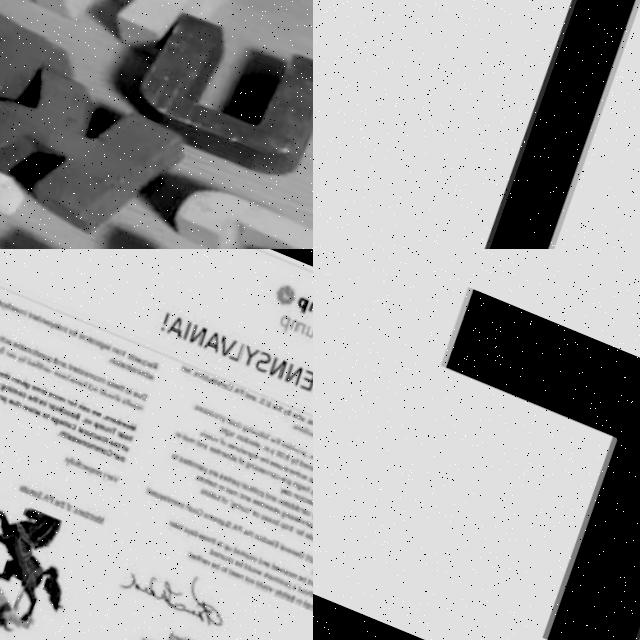0: (273, 450, 283, 460), (297, 552, 307, 562), (271, 448, 277, 458), (306, 557, 311, 564)
2: (301, 554, 310, 564), (308, 557, 313, 566)
8: (279, 452, 288, 462)
A: (198, 329, 224, 355), (162, 312, 186, 339), (228, 386, 238, 396), (44, 402, 54, 412), (62, 432, 71, 442), (36, 492, 45, 502), (246, 394, 255, 402), (2, 338, 11, 346), (197, 444, 206, 452), (80, 406, 89, 414), (276, 488, 285, 496), (225, 478, 234, 486), (207, 471, 216, 479), (202, 479, 211, 487), (239, 495, 248, 503), (224, 523, 233, 531), (258, 560, 267, 568), (144, 373, 152, 381), (223, 418, 231, 426), (18, 344, 26, 352), (73, 378, 81, 386), (266, 495, 274, 503), (114, 432, 122, 440), (296, 508, 304, 516), (269, 508, 277, 516), (206, 492, 214, 500), (305, 534, 313, 542), (57, 360, 64, 369), (167, 635, 177, 640), (307, 453, 313, 461), (266, 472, 272, 479), (281, 502, 287, 509), (222, 488, 228, 495), (307, 570, 313, 577), (184, 529, 190, 536), (19, 486, 25, 493), (271, 462, 276, 470), (291, 516, 296, 524), (227, 456, 233, 462), (301, 522, 307, 528), (284, 584, 290, 590), (261, 574, 267, 580), (88, 337, 93, 344), (118, 362, 123, 369), (298, 474, 303, 481), (308, 490, 313, 497), (238, 483, 243, 490), (33, 409, 38, 416), (76, 427, 81, 434), (274, 545, 279, 552), (170, 523, 175, 530), (237, 448, 242, 454), (180, 436, 185, 442), (256, 468, 261, 474), (299, 602, 304, 608), (280, 594, 285, 600)
B: (230, 558, 240, 570), (13, 342, 23, 352), (297, 484, 307, 494), (69, 412, 79, 422), (205, 478, 215, 488), (208, 492, 218, 502), (281, 592, 291, 602), (59, 372, 68, 382), (109, 416, 118, 426), (267, 517, 276, 527), (207, 561, 216, 571), (77, 508, 86, 518), (289, 456, 295, 465), (224, 453, 230, 462), (266, 504, 272, 513), (295, 574, 301, 583), (282, 409, 288, 416), (18, 356, 24, 362), (309, 512, 313, 521)
C: (99, 158, 313, 249), (99, 446, 109, 458), (190, 506, 200, 516), (223, 382, 232, 392), (66, 422, 75, 432), (257, 536, 266, 544), (73, 462, 82, 470), (220, 556, 229, 564), (43, 366, 51, 374), (304, 522, 312, 530), (245, 555, 253, 563), (16, 392, 25, 399), (232, 422, 240, 429), (0, 337, 7, 345), (57, 408, 63, 416), (302, 429, 308, 436), (298, 496, 304, 503), (301, 510, 307, 517), (241, 484, 246, 492), (280, 570, 286, 576), (92, 375, 97, 382), (275, 464, 280, 471), (269, 473, 274, 480), (88, 432, 93, 439), (240, 507, 245, 514), (242, 438, 247, 444), (309, 467, 313, 474)
D: (21, 354, 31, 366), (282, 522, 292, 534), (297, 576, 307, 588), (220, 564, 230, 576), (179, 548, 189, 560), (140, 484, 149, 496), (238, 390, 248, 400), (140, 370, 150, 380), (94, 386, 104, 396), (190, 439, 200, 449), (280, 488, 290, 498), (170, 453, 180, 463), (283, 502, 293, 512), (185, 528, 195, 538), (159, 630, 169, 640), (33, 314, 42, 324), (11, 400, 20, 410), (201, 546, 210, 556), (235, 560, 244, 570), (248, 578, 256, 588), (136, 393, 145, 401), (250, 558, 259, 566), (50, 356, 57, 366), (283, 443, 291, 451), (233, 491, 241, 499), (293, 458, 300, 467), (259, 492, 266, 501), (289, 504, 296, 513), (226, 546, 233, 554), (302, 532, 308, 541), (264, 561, 270, 570), (54, 324, 60, 331), (311, 594, 313, 602)
E: (293, 368, 313, 393), (265, 539, 275, 549), (266, 403, 275, 411), (99, 342, 108, 350), (41, 320, 50, 328), (29, 314, 38, 322), (131, 356, 140, 364), (264, 436, 273, 444), (225, 420, 234, 428), (68, 366, 77, 374), (130, 402, 139, 410), (65, 376, 74, 384), (252, 454, 261, 462), (224, 442, 233, 450), (283, 468, 292, 476), (264, 460, 273, 468), (274, 475, 283, 483), (85, 408, 94, 416), (10, 377, 19, 385), (304, 500, 313, 508), (117, 434, 126, 442), (97, 435, 106, 443), (91, 434, 100, 442), (52, 418, 61, 426), (3, 397, 12, 405), (143, 490, 152, 498), (234, 528, 243, 536), (204, 516, 213, 524), (163, 520, 172, 528), (195, 534, 204, 542), (191, 532, 200, 540), (266, 564, 275, 572), (203, 561, 212, 569), (224, 570, 233, 578), (26, 489, 35, 497), (85, 514, 94, 522), (10, 306, 18, 314), (304, 430, 312, 438), (109, 382, 117, 390), (102, 379, 110, 387), (36, 352, 44, 360), (244, 439, 252, 447), (297, 462, 305, 470), (53, 370, 61, 378), (203, 446, 211, 454), (295, 484, 303, 492), (25, 383, 33, 391), (120, 422, 128, 430), (105, 416, 113, 424), (299, 498, 307, 506), (201, 468, 209, 476), (21, 394, 29, 402), (274, 499, 282, 507), (245, 498, 253, 506), (45, 414, 53, 422), (103, 439, 111, 447), (66, 434, 74, 442), (196, 512, 204, 520), (286, 550, 294, 558), (102, 474, 110, 482), (89, 468, 97, 476), (77, 464, 85, 472), (205, 550, 213, 558), (227, 560, 235, 568), (184, 553, 192, 561), (228, 571, 236, 579), (12, 483, 20, 491), (74, 508, 82, 516), (47, 498, 55, 506), (49, 322, 58, 329), (7, 341, 16, 348), (128, 391, 137, 398), (249, 442, 258, 449), (56, 372, 65, 379), (143, 362, 151, 369), (43, 390, 49, 398), (229, 548, 235, 556), (303, 419, 309, 426), (280, 442, 286, 449), (216, 451, 222, 458), (259, 503, 265, 510), (298, 531, 304, 538), (283, 571, 289, 578), (291, 575, 297, 582), (196, 558, 202, 565), (180, 366, 185, 374), (259, 514, 264, 522), (167, 498, 172, 506), (277, 568, 282, 576), (280, 548, 286, 554), (306, 465, 311, 472), (41, 365, 46, 372), (28, 360, 33, 367), (218, 475, 223, 482), (194, 465, 199, 472), (250, 499, 255, 506), (201, 432, 206, 438), (208, 448, 213, 454), (178, 458, 183, 464), (261, 540, 266, 546), (310, 432, 313, 440), (134, 638, 144, 640)
F: (313, 249, 640, 640), (70, 328, 77, 338), (59, 500, 66, 510), (213, 436, 220, 445), (69, 399, 75, 409), (70, 458, 76, 468), (261, 432, 267, 441), (232, 456, 238, 465), (214, 495, 220, 504), (294, 528, 300, 537), (118, 350, 124, 358), (31, 360, 37, 368), (190, 553, 195, 561), (309, 523, 313, 532), (117, 444, 121, 449)
G: (19, 381, 29, 391), (48, 416, 58, 426), (273, 509, 283, 519), (95, 341, 104, 351), (238, 460, 247, 470), (0, 300, 7, 310), (220, 428, 227, 438), (223, 501, 231, 509), (291, 550, 299, 558), (244, 452, 250, 461), (292, 483, 298, 492), (238, 424, 244, 432), (0, 382, 3, 392)
H: (107, 392, 117, 402), (121, 432, 131, 442), (50, 498, 60, 508), (268, 434, 277, 444), (77, 378, 85, 388), (54, 428, 62, 438), (289, 412, 298, 420), (287, 468, 296, 476), (258, 454, 265, 464), (107, 440, 115, 448), (270, 403, 277, 412), (0, 371, 6, 379), (114, 384, 120, 391), (241, 530, 247, 537), (203, 536, 209, 543), (218, 426, 223, 434), (300, 590, 306, 596), (28, 396, 33, 402), (311, 570, 313, 577)
I: (177, 320, 192, 342), (33, 360, 40, 370), (220, 474, 227, 484), (191, 552, 198, 562), (184, 459, 191, 468), (128, 364, 134, 374), (19, 378, 25, 388), (5, 384, 11, 394), (297, 426, 304, 434), (36, 386, 42, 395), (304, 462, 309, 472), (232, 502, 237, 512), (199, 373, 205, 381), (21, 309, 27, 317), (3, 302, 9, 310), (133, 367, 139, 375), (247, 450, 253, 458), (215, 483, 221, 491), (291, 596, 297, 604), (113, 358, 118, 366), (221, 486, 226, 494), (282, 512, 287, 520), (274, 566, 279, 574), (304, 591, 309, 599), (188, 554, 193, 562), (297, 599, 302, 607), (248, 461, 252, 469), (205, 410, 210, 416), (245, 426, 250, 432), (78, 370, 83, 376), (294, 495, 299, 501), (40, 400, 45, 406), (290, 481, 294, 488), (200, 408, 205, 413), (287, 444, 292, 449), (98, 378, 103, 383), (209, 378, 213, 384), (62, 327, 66, 333), (31, 350, 35, 356), (224, 430, 228, 436), (239, 436, 243, 442), (278, 464, 282, 470), (173, 432, 177, 438), (247, 487, 251, 493), (288, 504, 292, 510), (255, 536, 259, 542), (95, 340, 99, 346), (179, 434, 183, 439), (243, 486, 246, 492)
K: (0, 36, 192, 249), (72, 401, 81, 411), (55, 406, 61, 413), (256, 571, 262, 578)
L: (313, 0, 640, 249), (223, 338, 245, 363), (275, 590, 282, 600), (250, 579, 257, 589), (277, 590, 283, 600), (273, 542, 279, 551), (254, 430, 260, 438), (12, 341, 18, 349), (27, 406, 33, 414), (303, 578, 309, 586), (60, 432, 66, 439), (90, 337, 95, 345), (231, 420, 236, 428), (99, 388, 104, 396), (235, 480, 240, 488), (96, 434, 101, 442), (29, 408, 34, 416), (65, 456, 70, 464), (64, 456, 69, 464), (174, 522, 179, 530), (241, 563, 246, 571), (309, 430, 313, 438), (257, 430, 261, 438), (200, 476, 204, 484), (265, 539, 269, 547), (58, 420, 63, 426), (59, 421, 64, 427), (73, 426, 78, 432), (295, 599, 300, 605), (105, 345, 109, 351), (123, 398, 127, 404), (177, 434, 181, 440), (305, 499, 309, 505), (248, 488, 252, 494), (202, 478, 206, 484), (220, 486, 223, 492), (206, 492, 209, 498), (203, 491, 206, 497), (250, 441, 253, 446)
M: (286, 318, 305, 334), (303, 299, 313, 317), (124, 423, 134, 433), (90, 514, 100, 524), (30, 386, 39, 394), (7, 388, 16, 396), (93, 424, 102, 432), (225, 490, 234, 498), (200, 513, 209, 521), (108, 346, 116, 354), (136, 370, 144, 378), (258, 444, 266, 452), (184, 437, 192, 445), (114, 420, 122, 428), (55, 396, 63, 404), (186, 462, 194, 470), (85, 442, 93, 450), (91, 446, 99, 454), (265, 575, 273, 583), (303, 603, 311, 611), (81, 511, 89, 519), (309, 536, 313, 544), (311, 479, 313, 487), (311, 491, 313, 499)
N: (184, 323, 207, 348), (280, 362, 303, 386), (264, 356, 287, 380), (242, 393, 251, 401), (16, 308, 25, 316), (37, 316, 46, 324), (55, 325, 64, 333), (290, 424, 299, 432), (192, 405, 201, 413), (93, 376, 102, 384), (65, 364, 74, 372), (88, 385, 97, 393), (48, 368, 57, 376), (239, 448, 248, 456), (261, 470, 270, 478), (285, 480, 294, 488), (6, 375, 15, 383), (235, 494, 244, 502), (282, 548, 291, 556), (22, 488, 31, 496), (105, 356, 113, 364), (53, 359, 61, 367), (22, 346, 30, 354), (35, 400, 43, 408), (263, 494, 271, 502), (292, 506, 300, 514), (254, 501, 262, 509), (76, 438, 84, 446), (254, 559, 262, 567), (231, 572, 239, 580), (192, 372, 201, 379), (83, 372, 92, 379), (286, 492, 295, 499), (227, 502, 236, 509), (194, 442, 202, 449), (0, 384, 7, 392), (212, 552, 218, 560), (232, 433, 238, 440), (281, 467, 287, 474), (28, 312, 33, 320), (245, 462, 250, 470), (247, 532, 252, 540), (244, 578, 249, 586), (279, 512, 285, 518), (217, 382, 222, 389), (242, 426, 247, 433), (227, 431, 232, 438), (170, 431, 175, 438), (214, 450, 219, 457), (213, 483, 218, 490), (289, 597, 294, 604), (131, 368, 136, 374), (298, 520, 303, 526), (236, 552, 241, 558), (310, 502, 313, 510), (310, 606, 313, 613)
O: (218, 382, 227, 390), (286, 411, 295, 419), (65, 330, 74, 338), (294, 425, 303, 433), (256, 432, 265, 440), (86, 373, 95, 381), (216, 439, 225, 447), (11, 390, 20, 398), (117, 444, 126, 452), (263, 516, 272, 524), (250, 534, 259, 542), (80, 334, 88, 342), (25, 348, 33, 356), (120, 387, 128, 395), (234, 434, 242, 442), (85, 384, 93, 392), (206, 434, 214, 442), (234, 458, 242, 466), (49, 393, 57, 401), (64, 399, 72, 407), (290, 492, 298, 500), (60, 410, 68, 418), (23, 406, 31, 414), (81, 430, 89, 438), (216, 496, 224, 504), (114, 455, 122, 463), (97, 448, 105, 456), (186, 507, 194, 515), (208, 540, 216, 548), (238, 576, 246, 584), (7, 352, 16, 359), (64, 412, 73, 419), (36, 412, 45, 419), (248, 511, 257, 518), (214, 564, 220, 574), (61, 422, 69, 429), (80, 441, 88, 448), (173, 502, 181, 509), (210, 412, 216, 420), (250, 488, 256, 496), (272, 590, 278, 598), (110, 359, 116, 366), (245, 567, 251, 574), (62, 504, 68, 511), (197, 476, 202, 484), (278, 522, 283, 530), (292, 528, 297, 536), (156, 494, 161, 502), (220, 556, 225, 564), (104, 392, 110, 398), (197, 374, 202, 381), (114, 349, 119, 356), (198, 407, 203, 414), (252, 430, 257, 437), (293, 447, 298, 454), (167, 453, 172, 460), (200, 490, 205, 497), (243, 554, 248, 561), (308, 582, 313, 589), (296, 589, 301, 596), (257, 584, 262, 591), (276, 580, 281, 586), (311, 525, 313, 532)
P: (290, 294, 311, 314), (273, 313, 290, 333), (306, 374, 313, 399), (233, 388, 243, 398), (295, 448, 305, 458), (263, 447, 273, 457), (195, 466, 205, 476), (228, 479, 238, 489), (252, 489, 262, 499), (146, 492, 156, 502), (81, 464, 90, 474), (41, 494, 50, 504), (230, 526, 239, 534), (273, 520, 280, 530), (215, 415, 223, 423), (152, 493, 159, 502), (45, 321, 53, 328), (88, 422, 96, 429), (212, 518, 218, 527), (217, 543, 223, 552), (281, 479, 287, 486), (279, 582, 285, 589), (0, 394, 3, 403)
Q: (138, 360, 148, 370), (43, 355, 52, 363)
R: (0, 0, 235, 63), (147, 362, 157, 372), (41, 402, 50, 410), (293, 518, 302, 526), (130, 635, 140, 640), (64, 328, 70, 336), (181, 504, 187, 512), (286, 572, 292, 580), (306, 419, 312, 426), (221, 417, 227, 424), (228, 444, 234, 451), (77, 428, 83, 435), (164, 498, 170, 505), (277, 546, 283, 553), (93, 470, 99, 477), (162, 519, 168, 526), (111, 430, 116, 438), (193, 556, 198, 564), (310, 329, 313, 342), (103, 416, 109, 422), (200, 536, 206, 542), (214, 414, 219, 421), (295, 448, 300, 455), (135, 404, 140, 411), (2, 349, 7, 356), (198, 430, 203, 437), (279, 477, 284, 484), (62, 398, 67, 405), (206, 470, 211, 477), (191, 463, 196, 470), (108, 452, 113, 459), (247, 509, 252, 516), (289, 527, 294, 534), (210, 517, 215, 524), (260, 573, 265, 580), (78, 334, 83, 340), (47, 392, 52, 398), (224, 478, 229, 484), (71, 508, 76, 514), (166, 635, 171, 640), (118, 350, 122, 356), (39, 364, 43, 370), (282, 524, 286, 530), (234, 504, 238, 510), (121, 364, 125, 369), (103, 428, 107, 433), (101, 474, 105, 479)
S: (249, 349, 272, 374), (253, 396, 263, 406), (29, 489, 39, 499), (218, 520, 227, 530), (188, 402, 197, 410), (74, 368, 83, 376), (99, 414, 108, 422), (285, 514, 294, 522), (283, 512, 290, 522), (212, 380, 220, 388), (73, 332, 81, 340), (124, 364, 132, 372), (275, 440, 283, 448), (111, 394, 119, 402), (213, 473, 221, 481), (176, 526, 184, 534), (105, 381, 113, 388), (32, 351, 40, 358), (221, 441, 229, 448), (305, 476, 311, 484), (161, 496, 167, 504), (183, 367, 189, 374), (128, 355, 134, 362), (7, 305, 13, 312), (203, 409, 209, 416), (249, 454, 255, 461), (263, 505, 269, 512), (254, 513, 260, 520), (267, 588, 273, 595), (190, 370, 195, 378), (80, 370, 85, 378), (0, 345, 4, 355), (220, 452, 225, 460), (249, 464, 254, 472), (78, 404, 83, 412), (79, 418, 85, 424), (271, 498, 277, 504), (124, 354, 129, 361), (92, 339, 97, 346), (288, 423, 293, 430), (118, 397, 123, 404), (195, 430, 200, 437), (192, 474, 197, 481), (86, 467, 91, 474), (273, 578, 278, 585), (68, 506, 73, 513), (129, 402, 134, 408), (252, 466, 257, 472), (195, 488, 200, 494)
T: (105, 427, 114, 435), (114, 358, 121, 368), (24, 310, 31, 319), (4, 302, 11, 311), (82, 382, 89, 391), (278, 499, 285, 508), (178, 503, 185, 512), (232, 548, 239, 557), (269, 458, 275, 468), (290, 584, 296, 594), (216, 566, 223, 574), (270, 588, 277, 596), (177, 363, 183, 372), (272, 438, 278, 447), (63, 362, 69, 371), (41, 412, 47, 421), (17, 483, 23, 492), (201, 374, 207, 382), (203, 432, 209, 440), (182, 458, 188, 466), (194, 474, 200, 482), (112, 442, 118, 450), (59, 431, 65, 439), (243, 530, 249, 538), (72, 460, 78, 468), (302, 590, 308, 598), (275, 406, 281, 413), (291, 470, 297, 477), (169, 454, 175, 461), (197, 489, 203, 496), (159, 494, 165, 501), (205, 537, 211, 544), (207, 376, 212, 384), (300, 427, 305, 435), (124, 363, 129, 371), (73, 366, 78, 374), (32, 349, 37, 357), (36, 362, 41, 370), (40, 388, 45, 396), (245, 484, 250, 492), (31, 396, 36, 404), (86, 430, 91, 438), (253, 500, 258, 508), (270, 576, 275, 584), (214, 426, 220, 432), (261, 458, 267, 464), (84, 336, 89, 343), (124, 388, 129, 395), (240, 436, 245, 443), (302, 475, 307, 482), (211, 448, 216, 455), (3, 373, 8, 380), (306, 568, 311, 575), (57, 501, 62, 508), (223, 474, 227, 482), (235, 446, 240, 452), (181, 458, 186, 464), (168, 522, 173, 528), (237, 575, 242, 581), (211, 378, 215, 384), (127, 354, 131, 360), (117, 385, 121, 391), (121, 398, 125, 404), (279, 465, 283, 471), (296, 496, 300, 502), (256, 536, 260, 542), (211, 552, 215, 558), (214, 542, 217, 548), (0, 334, 2, 342)
U: (99, 0, 313, 197), (300, 325, 313, 340), (259, 399, 269, 409), (135, 358, 144, 366), (40, 354, 49, 362), (293, 472, 302, 480), (97, 426, 106, 434), (6, 399, 15, 407), (214, 520, 223, 528), (219, 544, 228, 552), (291, 586, 300, 594), (3, 350, 11, 358), (124, 400, 132, 408), (100, 390, 108, 398), (110, 454, 118, 462), (234, 504, 242, 512), (182, 505, 190, 513), (131, 392, 140, 399), (306, 477, 313, 485), (204, 376, 210, 384), (305, 580, 311, 588), (67, 459, 73, 466), (215, 554, 221, 561), (254, 583, 260, 590), (239, 552, 244, 560), (308, 421, 313, 428), (231, 446, 236, 453), (243, 566, 248, 573)
V: (211, 334, 236, 361), (106, 472, 116, 484), (69, 377, 78, 385), (50, 406, 58, 414), (81, 418, 89, 426), (301, 464, 307, 471), (210, 435, 216, 442), (271, 567, 277, 574), (259, 468, 264, 476), (171, 500, 176, 508), (207, 412, 213, 418), (288, 446, 294, 452), (15, 307, 20, 314), (15, 379, 20, 386), (200, 559, 205, 566)
W: (90, 410, 99, 418), (17, 404, 26, 412), (70, 437, 79, 445), (173, 635, 187, 640), (295, 414, 303, 422), (246, 428, 254, 436), (304, 452, 312, 460), (249, 568, 257, 576), (261, 586, 269, 594), (306, 592, 313, 600)
X: (262, 516, 267, 523)
Y: (235, 344, 260, 370), (178, 526, 187, 538), (283, 455, 293, 465), (271, 486, 281, 496), (276, 407, 285, 417), (12, 354, 21, 364), (302, 488, 311, 496), (304, 512, 311, 520), (61, 456, 67, 465), (97, 472, 102, 479)
